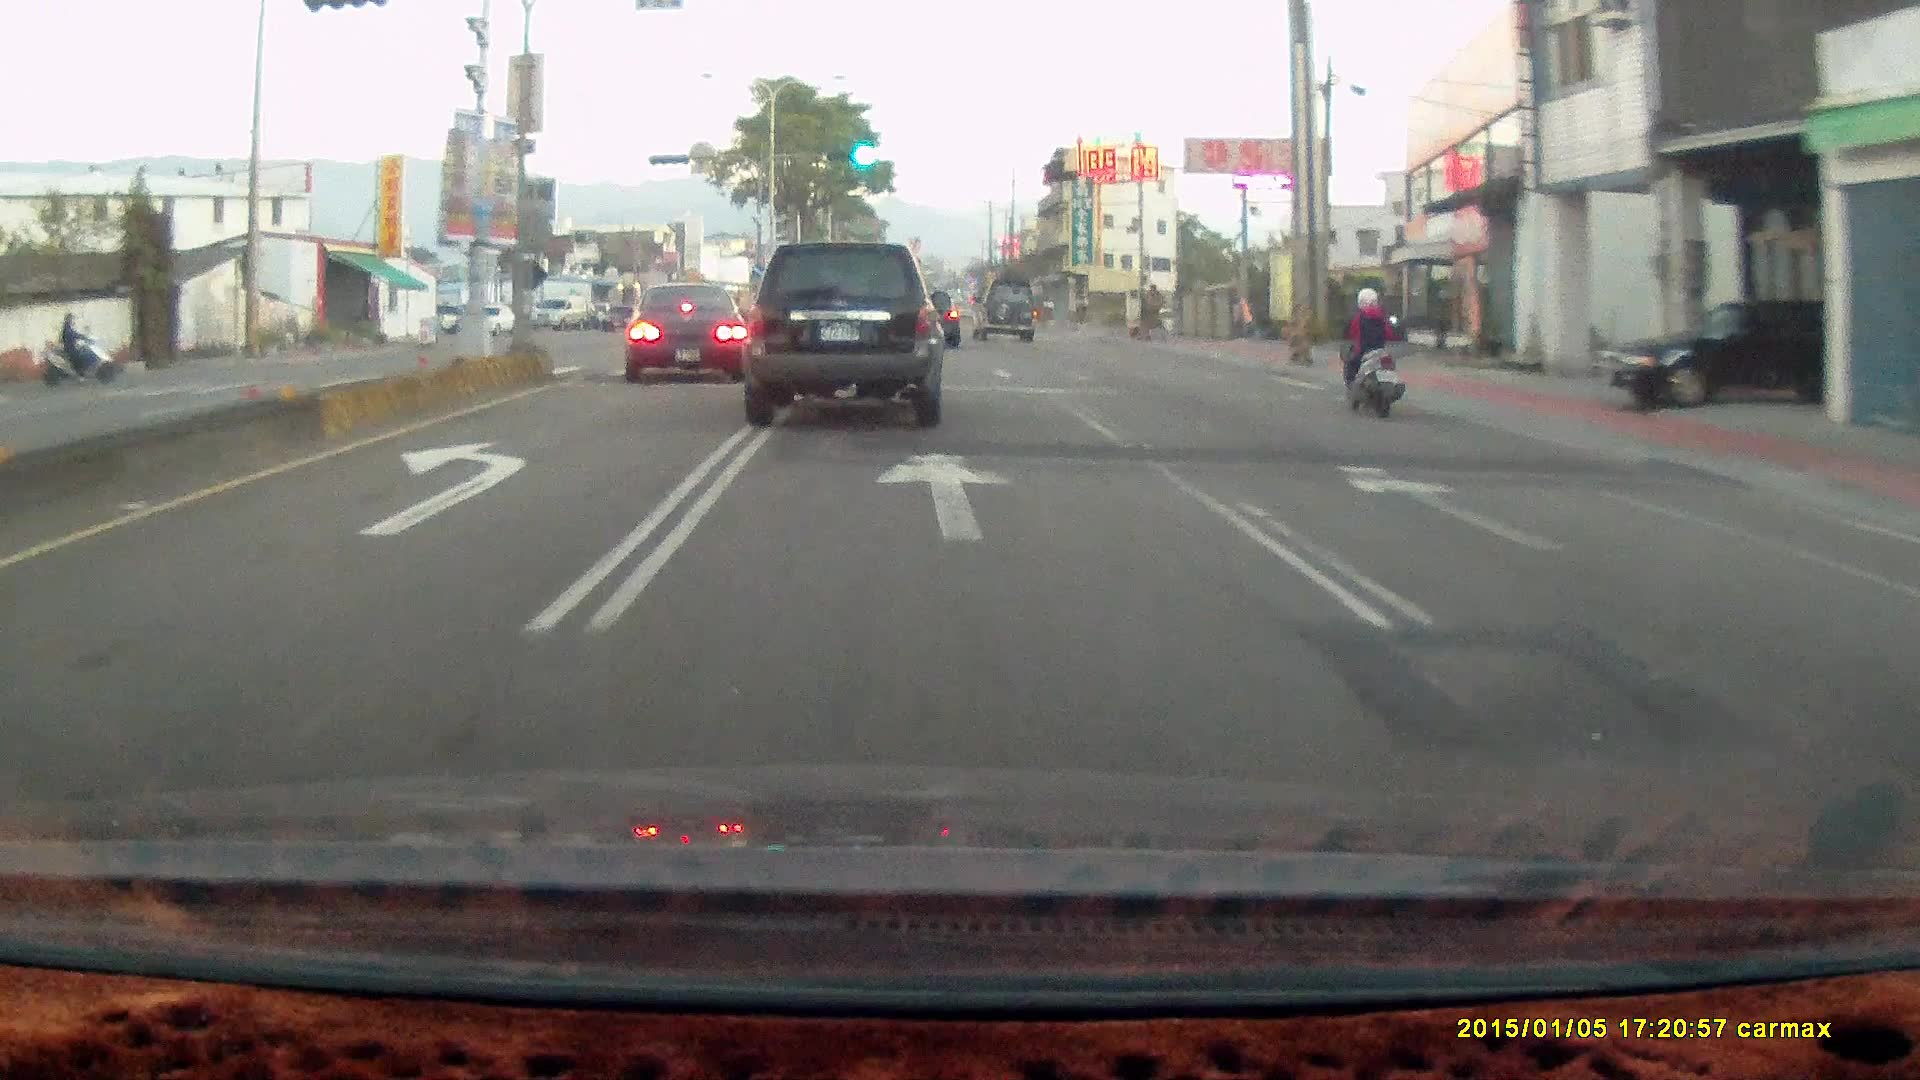rider: (1325, 275, 1417, 428), (1330, 286, 1402, 417), (18, 296, 124, 382)
vehicle: (745, 234, 954, 425), (744, 240, 949, 425), (1596, 293, 1894, 408), (1609, 295, 1832, 411), (622, 279, 757, 383), (623, 277, 752, 379), (971, 277, 1038, 343), (969, 278, 1036, 340), (895, 289, 962, 351), (454, 301, 519, 336), (526, 296, 585, 329), (600, 305, 642, 332)
